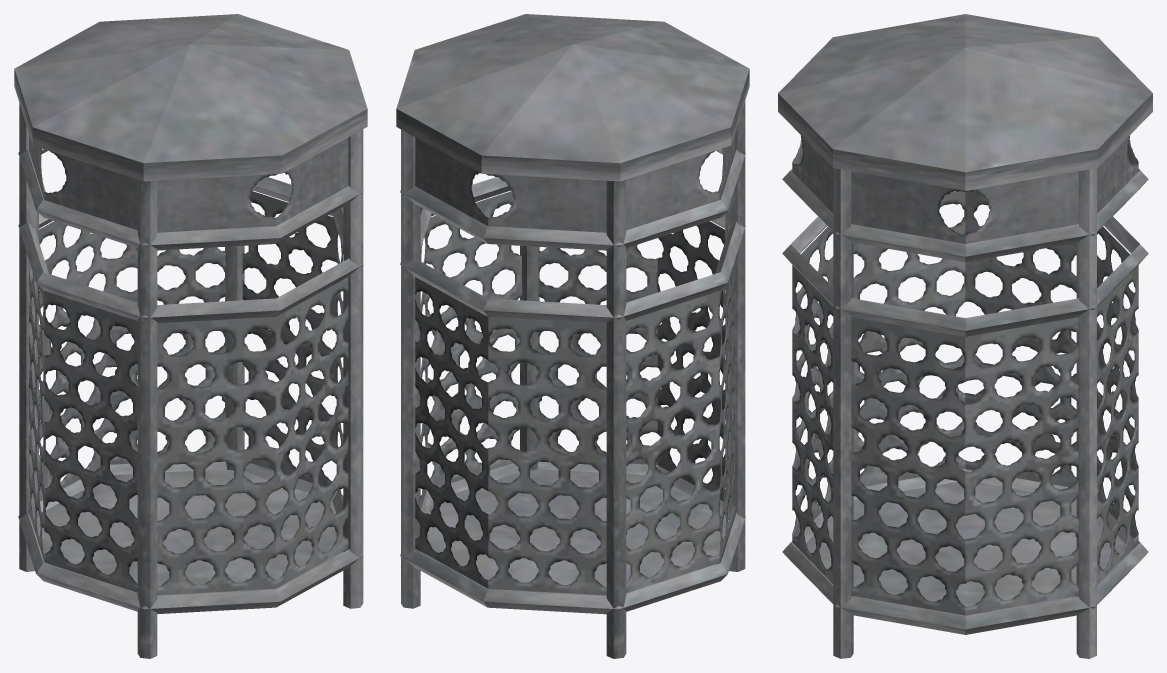
File: cj_bin1.obj
3 renders of one model, left to right at view 1: azimuth 30°, elevation 25°; view 2: azimuth 150°, elevation 25°; view 3: azimuth 270°, elevation 25°, orthographic. The views are drawn at different scales.
Visible parts, largest first — view 1: CJ_BIN1; view 2: CJ_BIN1; view 3: CJ_BIN1.
Boxes of the visible parts, x1,y1,x2,y2 form: CJ_BIN1: [14, 14, 367, 658]; CJ_BIN1: [396, 14, 749, 658]; CJ_BIN1: [778, 14, 1152, 658].
Bounding box in the file's own units: 0.8361 × 1.37 × 0.8361.
1 material, 1 textured.
